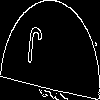J: (25, 25, 43, 76)
